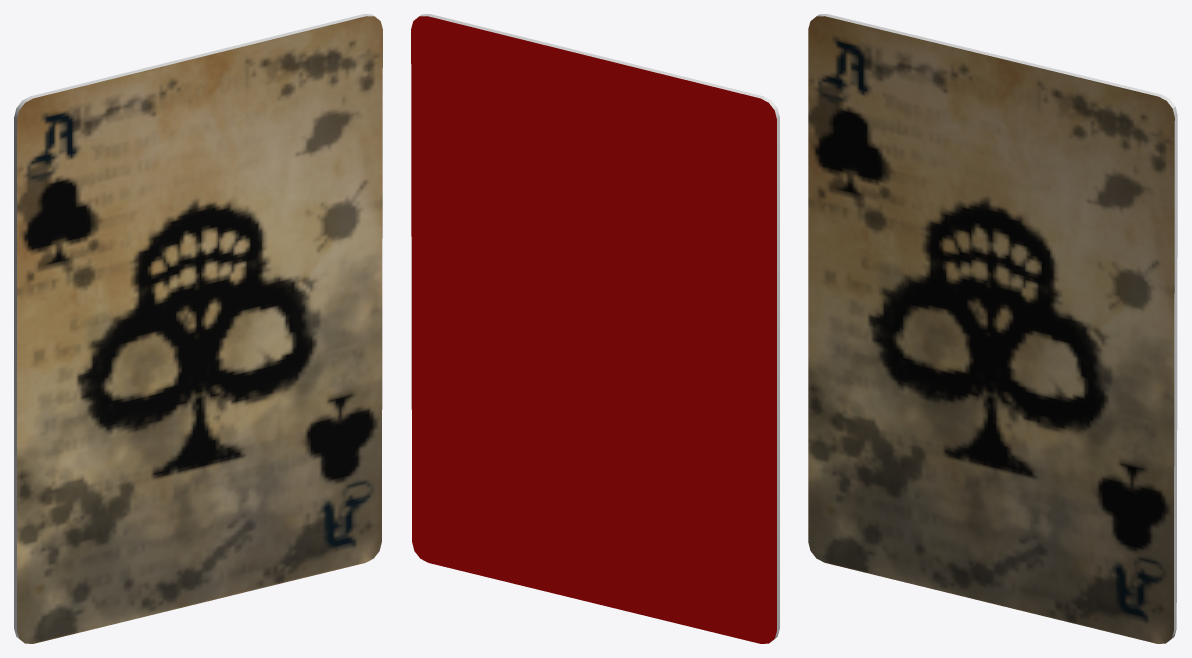
File: SM_Card.fbx
3 views of the same model, side by side, from view 1: azimuth 30°, elevation 25°; view 2: azimuth 150°, elevation 25°; view 3: azimuth 330°, elevation 25° (orthographic).
Visible parts, largest first — view 1: Card.001; view 2: Card.001; view 3: Card.001.
Boxes of the visible parts, x1,y1,x2,y2 form: Card.001: (14,14,382,643); Card.001: (411,14,779,643); Card.001: (808,14,1177,643).
Size of the model in its own units: 11.23 by 16.03 by 0.1561.
